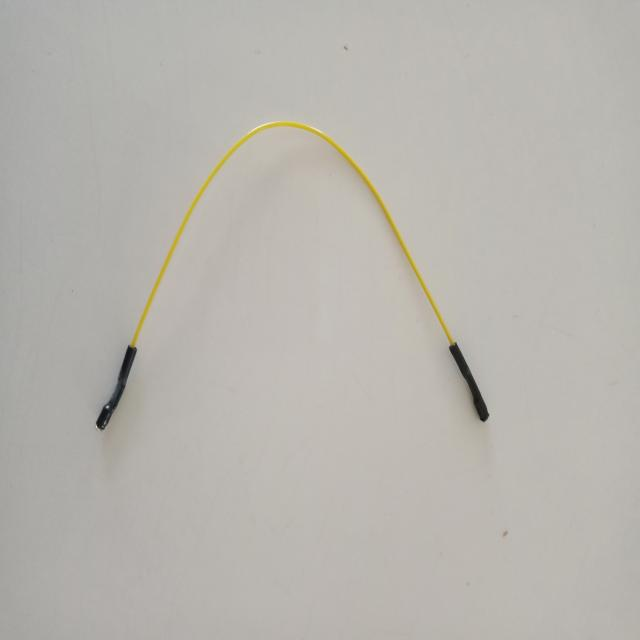BNC Cables Both Clips: (90, 109, 505, 438)
